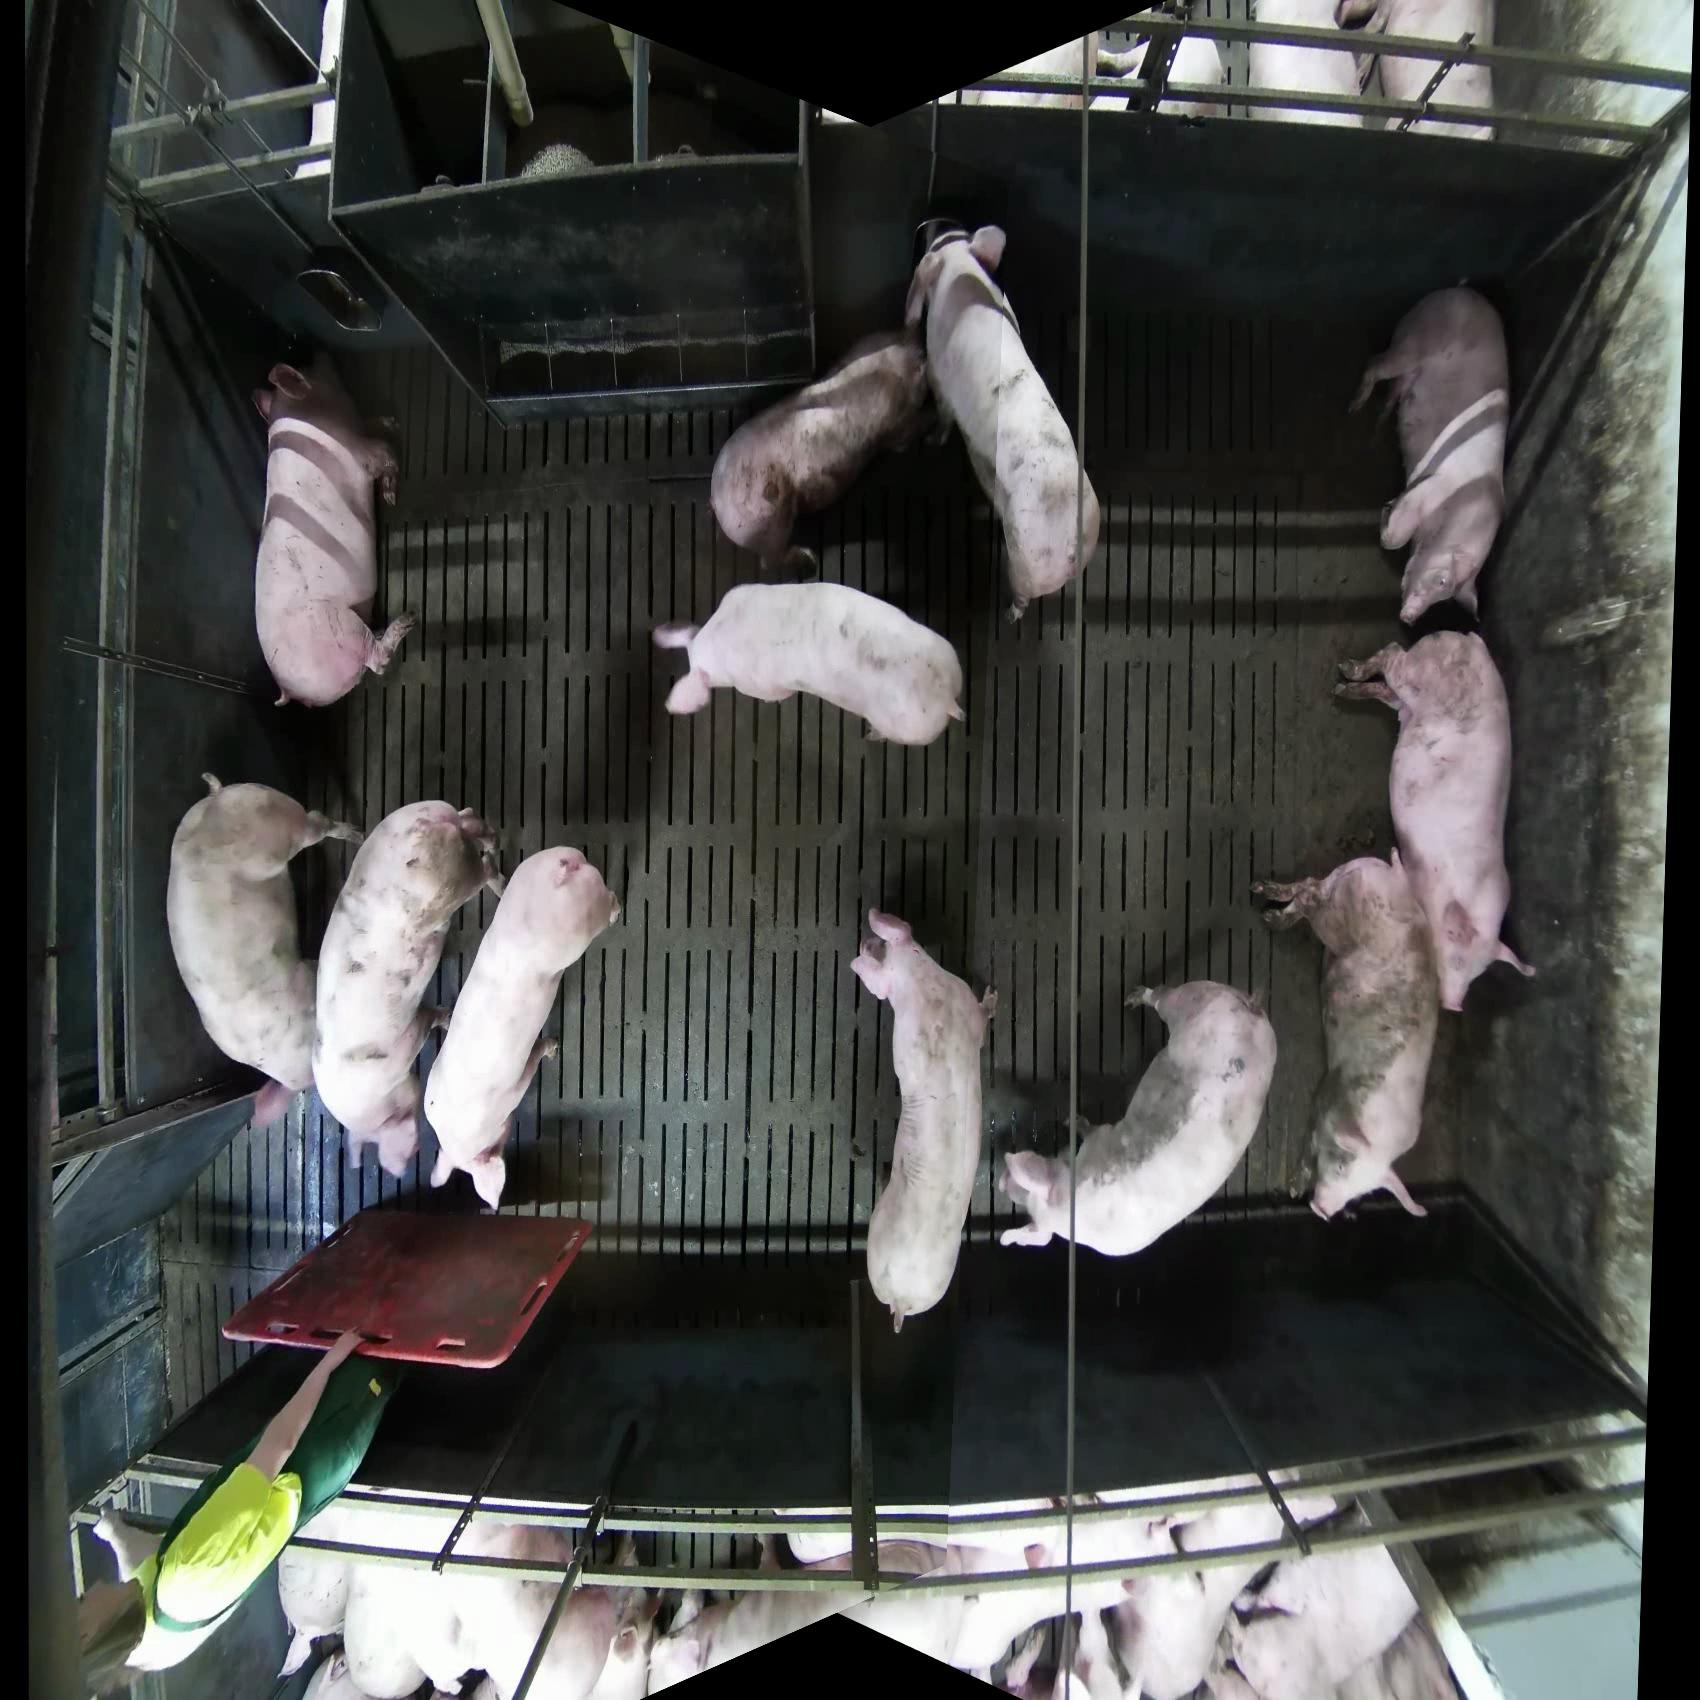pig: (902, 218, 1104, 625), (1331, 628, 1537, 1016), (998, 978, 1279, 1259), (422, 844, 622, 1214), (312, 799, 505, 1180), (1250, 849, 1442, 1224), (166, 771, 364, 1131), (848, 908, 1000, 1335), (250, 349, 416, 711), (1348, 279, 1513, 627), (708, 324, 931, 578), (652, 580, 967, 748), (1336, 1, 1498, 141), (1249, 1, 1379, 127)
worker: (75, 1325, 397, 1694)
